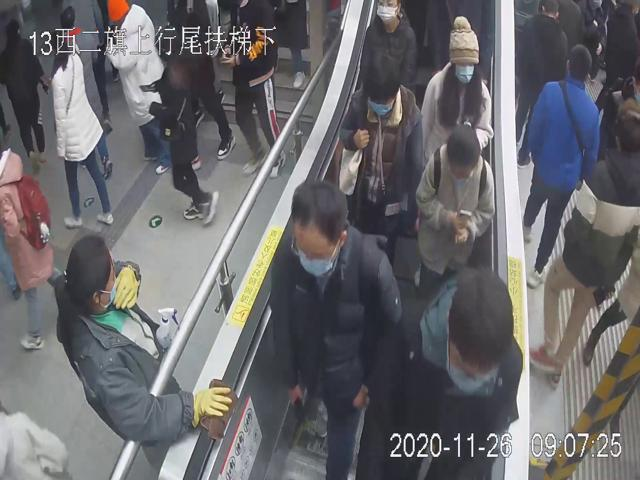person: (269, 181, 403, 480), (56, 233, 232, 446), (354, 265, 523, 480), (523, 42, 599, 288), (336, 48, 425, 239), (412, 120, 495, 288), (46, 28, 114, 228), (420, 12, 493, 164)
